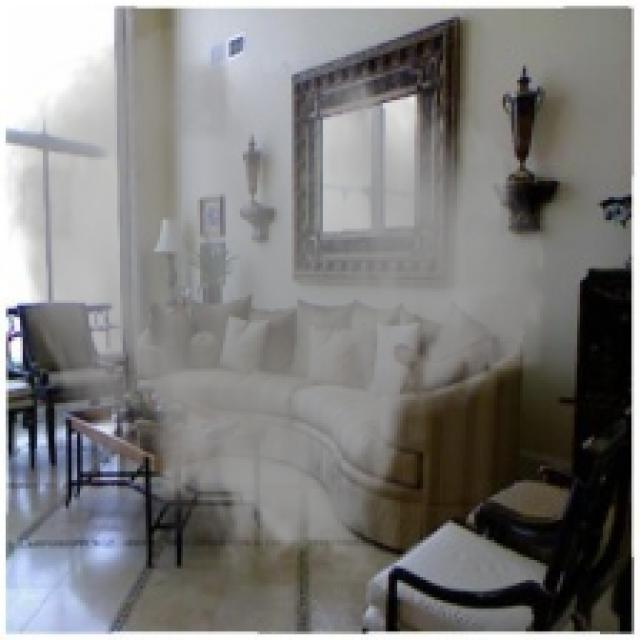smoke: (0, 22, 552, 589)
